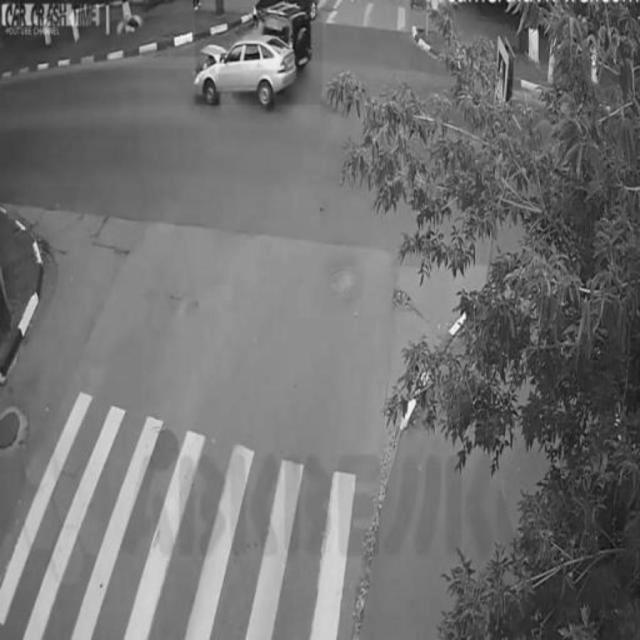accident: (195, 7, 323, 105)
